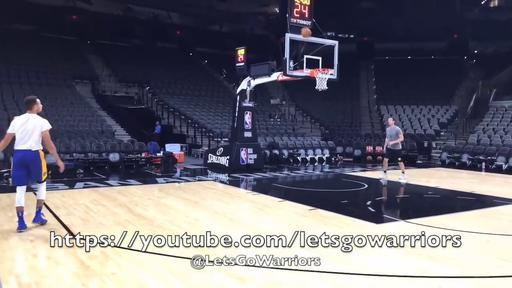ball: (302, 26, 312, 38)
human: (4, 96, 64, 232), (380, 117, 406, 184)
rim: (313, 68, 331, 90)
